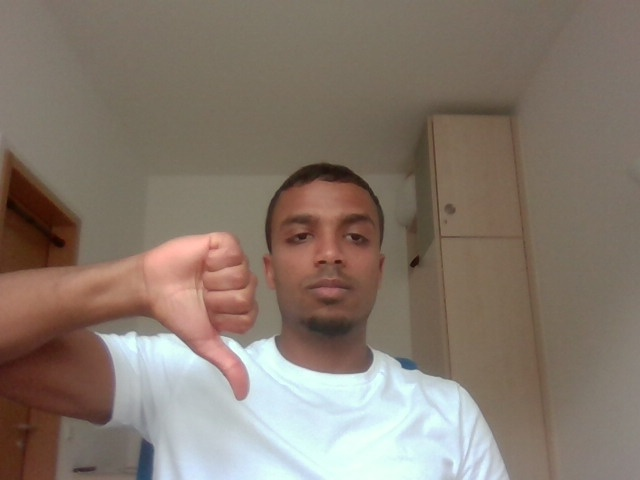no: (131, 205, 275, 415)
